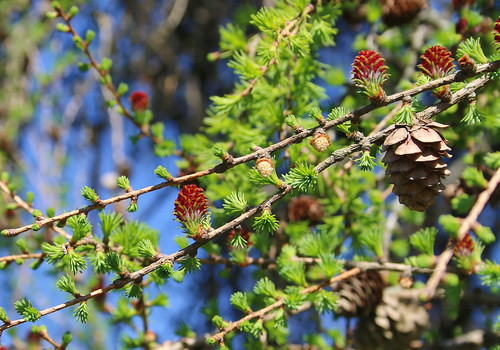vegetation: (28, 17, 491, 331)
